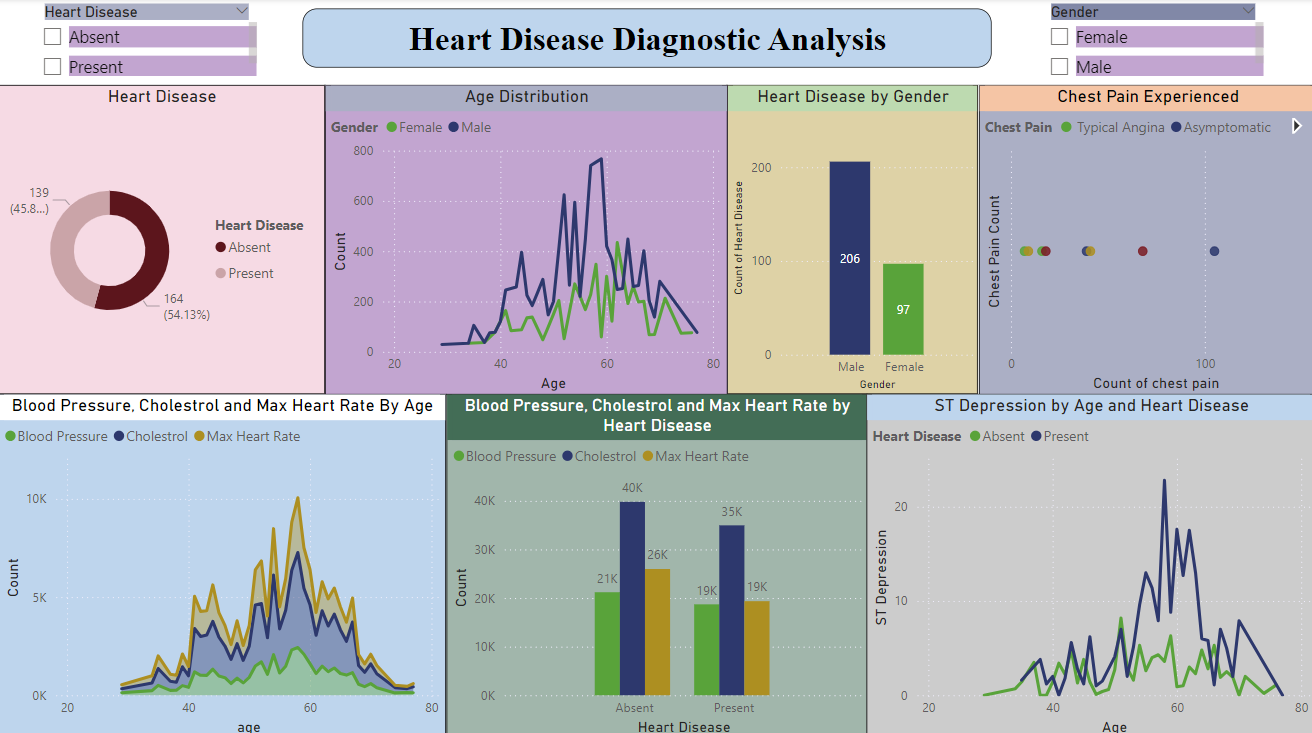

This screenshot's page, from the dashboard's own definition file:
{"tool":"powerbi","page":{"name":"Dashboard","canvas":[1280,720],"ordinal":0},"visuals":[{"type":"columnChart","title":"Heart Disease by Gender","fields":{"Category":["heart_disease_dataset.Gender"],"Y":["CountNonNull(heart_disease_dataset.Heart Disease)"],"Series":["heart_disease_dataset.Gender"]},"box":[708.1,84.8,243.6,299.7],"z":0},{"type":"donutChart","title":"Heart Disease","fields":{"Y":["CountNonNull(heart_disease_dataset.Heart Disease)"],"Category":["heart_disease_dataset.Heart Disease"]},"box":[0,84.8,317.6,299.7],"z":1000},{"type":"lineChart","title":"Age Distribution","fields":{"Category":["heart_disease_dataset.age"],"Y":["Sum(heart_disease_dataset.age)"],"Series":["heart_disease_dataset.Gender"]},"box":[317.6,84.8,390.4,300.9],"z":2000},{"type":"scatterChart","title":"Chest Pain Experienced","fields":{"Category":["heart_disease_dataset.Heart Disease"],"X":["CountNonNull(heart_disease_dataset.chest pain)"],"Series":["heart_disease_dataset.chest pain"]},"box":[951.6,84.8,327.2,300.9],"z":3000},{"type":"stackedAreaChart","title":"Blood Pressure, Cholestrol and Max Heart Rate By Age","fields":{"Category":["heart_disease_dataset.age"],"Y":["Sum(heart_disease_dataset.Blood Pressure)","Sum(heart_disease_dataset.Cholestrol)","Sum(heart_disease_dataset.Max Heart Rate)"]},"box":[0,384.5,434.6,334.3],"z":4000},{"type":"clusteredColumnChart","title":"Blood Pressure, Cholestrol and Max Heart Rate by Heart Disease","fields":{"Category":["heart_disease_dataset.Heart Disease"],"Y":["Sum(heart_disease_dataset.trestbps)","Sum(heart_disease_dataset.chol)","Sum(heart_disease_dataset.thalach)"]},"box":[434.6,384.5,408.4,334.3],"z":5000},{"type":"lineChart","title":"ST Depression by Age and Heart Disease","fields":{"Category":["heart_disease_dataset.age"],"Series":["heart_disease_dataset.Heart Disease"],"Y":["Sum(heart_disease_dataset.oldpeak)"]},"box":[843,384.5,435.8,334.3],"z":6000},{"type":"slicer","fields":{"Values":["heart_disease_dataset.Gender"]},"box":[1008,0,224,80],"z":7000},{"type":"slicer","fields":{"Values":["heart_disease_dataset.Heart Disease"]},"box":[32,0,224,80],"z":8000},{"type":"textbox","box":[294.9,10.7,668.7,57.3],"z":9000}]}

Visuals, with their boxes in screenshot pixels (x1, y1, x2, y2), scaled from the page's 1280x720 canvas onto the 1312x733 screenshot:
"Heart Disease by Gender" columnChart: x1=726, y1=86, x2=975, y2=391
"Heart Disease" donutChart: x1=0, y1=86, x2=326, y2=391
"Age Distribution" lineChart: x1=326, y1=86, x2=726, y2=393
"Chest Pain Experienced" scatterChart: x1=975, y1=86, x2=1311, y2=393
"Blood Pressure, Cholestrol and Max Heart Rate By Age" stackedAreaChart: x1=0, y1=391, x2=445, y2=732
"Blood Pressure, Cholestrol and Max Heart Rate by Heart Disease" clusteredColumnChart: x1=445, y1=391, x2=864, y2=732
"ST Depression by Age and Heart Disease" lineChart: x1=864, y1=391, x2=1311, y2=732
slicer - heart_disease_dataset.Gender: x1=1033, y1=0, x2=1263, y2=81
slicer - heart_disease_dataset.Heart Disease: x1=33, y1=0, x2=262, y2=81
textbox: x1=302, y1=11, x2=988, y2=69
